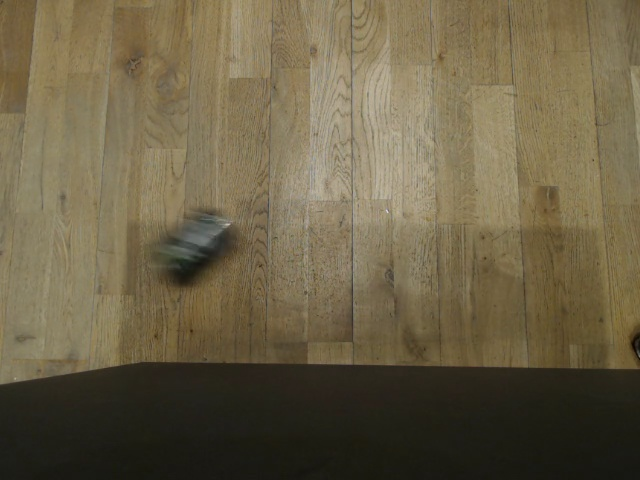beer: (154, 203, 238, 290)
